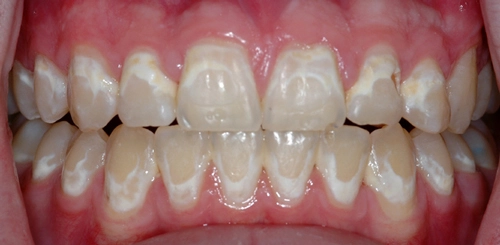LL1BC_mdecay: (413, 126, 455, 198)
LL1M_mdecay: (468, 123, 500, 174)
LL2BC_mdecay: (444, 131, 474, 172)
LLCI_mdecay: (265, 127, 314, 202)
LLC_mdecay: (365, 121, 416, 206)
LLLI_mdecay: (318, 125, 368, 206)
LR1BC_mdecay: (63, 128, 103, 197)
LR1M_mdecay: (12, 123, 41, 163)
LR2BC_mdecay: (36, 120, 71, 184)
LRCI_mdecay: (213, 129, 263, 209)
LRC_mdecay: (107, 126, 151, 213)
LRLI_mdecay: (153, 124, 211, 210)
UL1BC_healthy: (449, 49, 477, 135)
UL2BC_healthy: (477, 63, 500, 117)
ULCI_mdecay: (263, 43, 345, 133)
ULC_mdecay: (403, 55, 452, 134)
ULLI_sdecay: (345, 41, 404, 127)
UR1BC_mdecay: (33, 54, 70, 124)
UR2BC_mdecay: (11, 63, 36, 122)
URCI_mdecay: (177, 39, 263, 134)
URC_mdecay: (66, 47, 118, 132)
URLI_mdecay: (118, 48, 177, 127)
